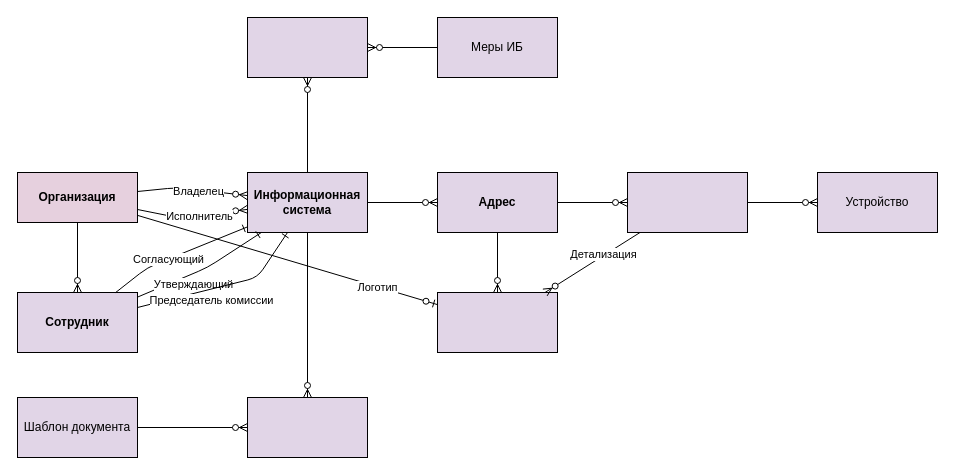
Image size: 955x475. Some labels were removed from this diagram. The shapes that lost their labels are listed below. From the top down, each one's box as (x1, y1, x2, y2) in pixels, then its label:
(246, 16, 368, 78): Применимые меры
(626, 172, 748, 232): Рабочее место
(436, 292, 558, 352): Фото
(246, 396, 368, 458): Документ
